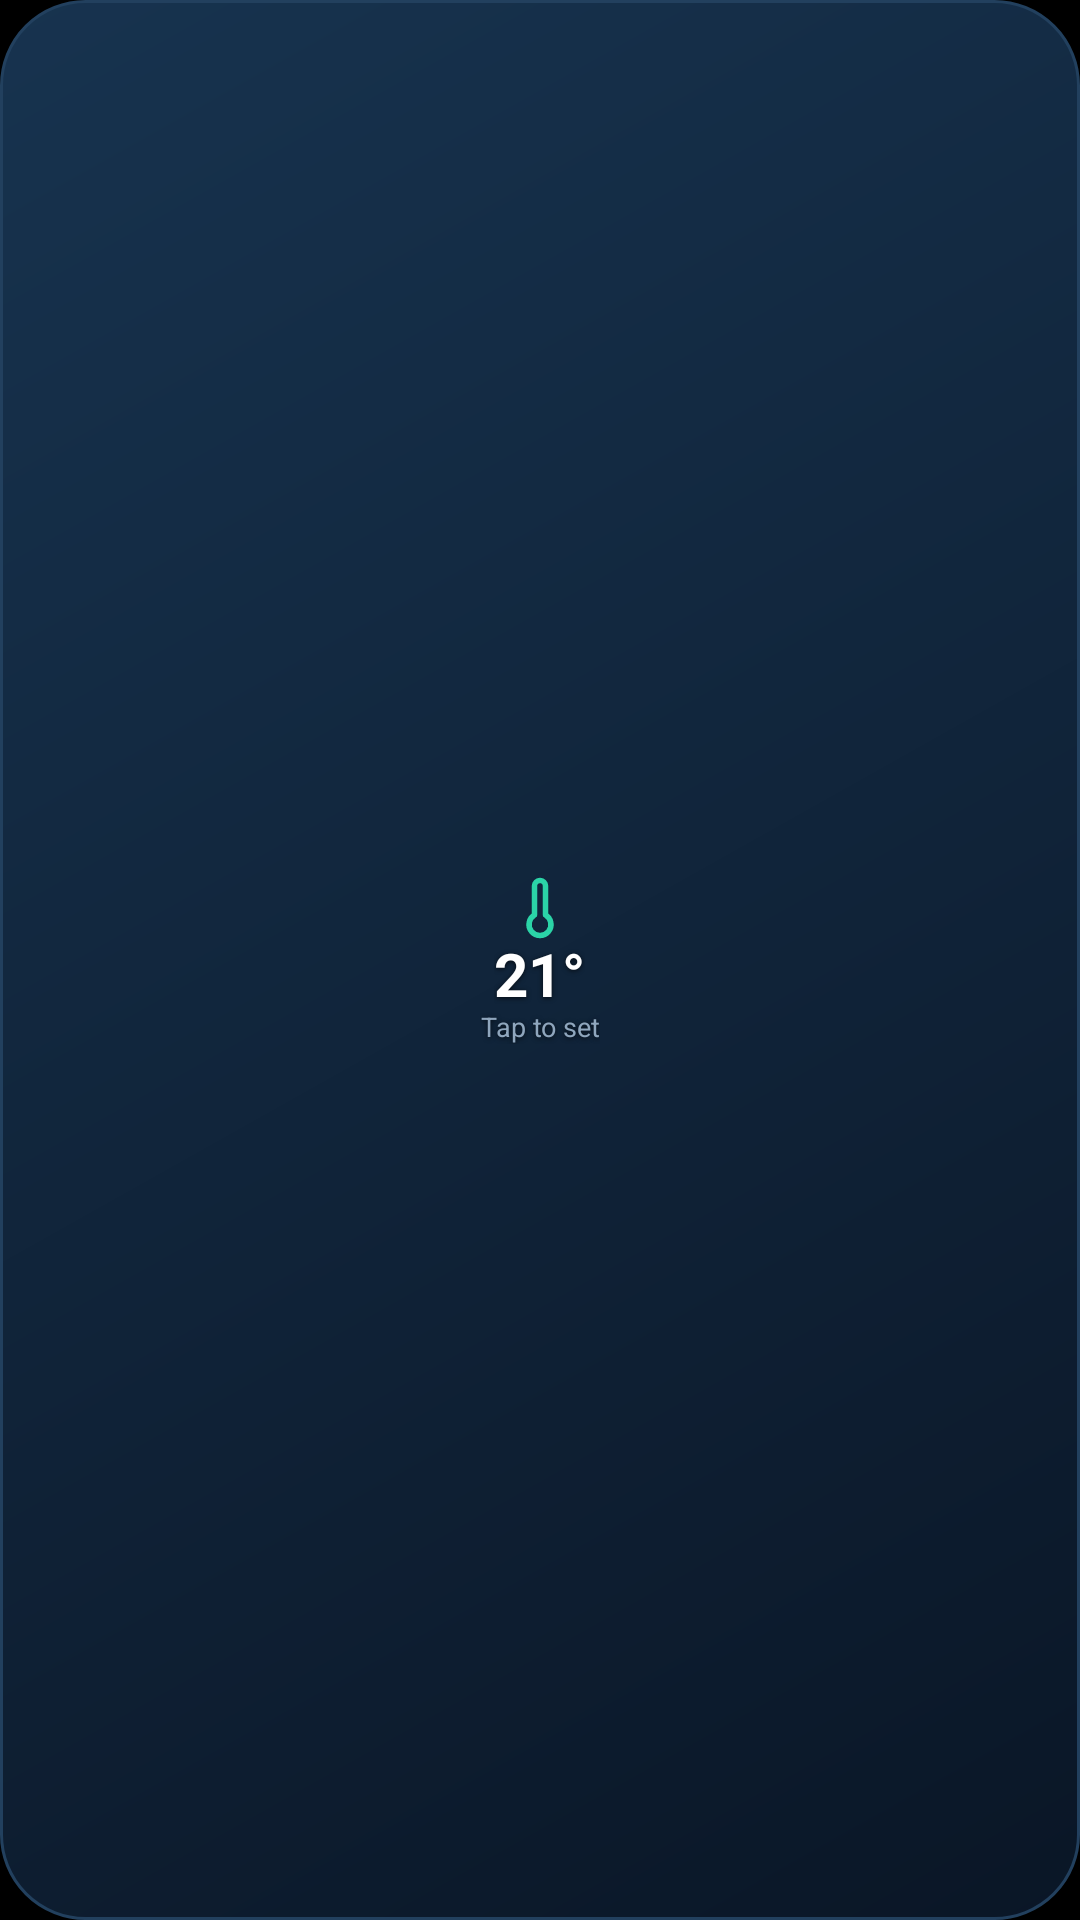

Icon bounding boxes for this 1080w x 1920h phone screenshot, format [left=x1, top=y1, right=x2, bottom=y2]:
thermo: [left=526, top=877, right=554, bottom=939]
